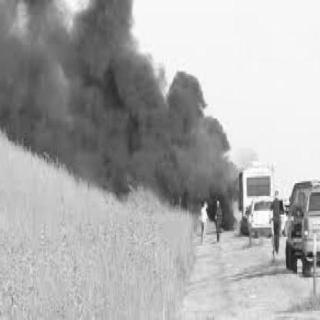Fire: (220, 161, 246, 234)
